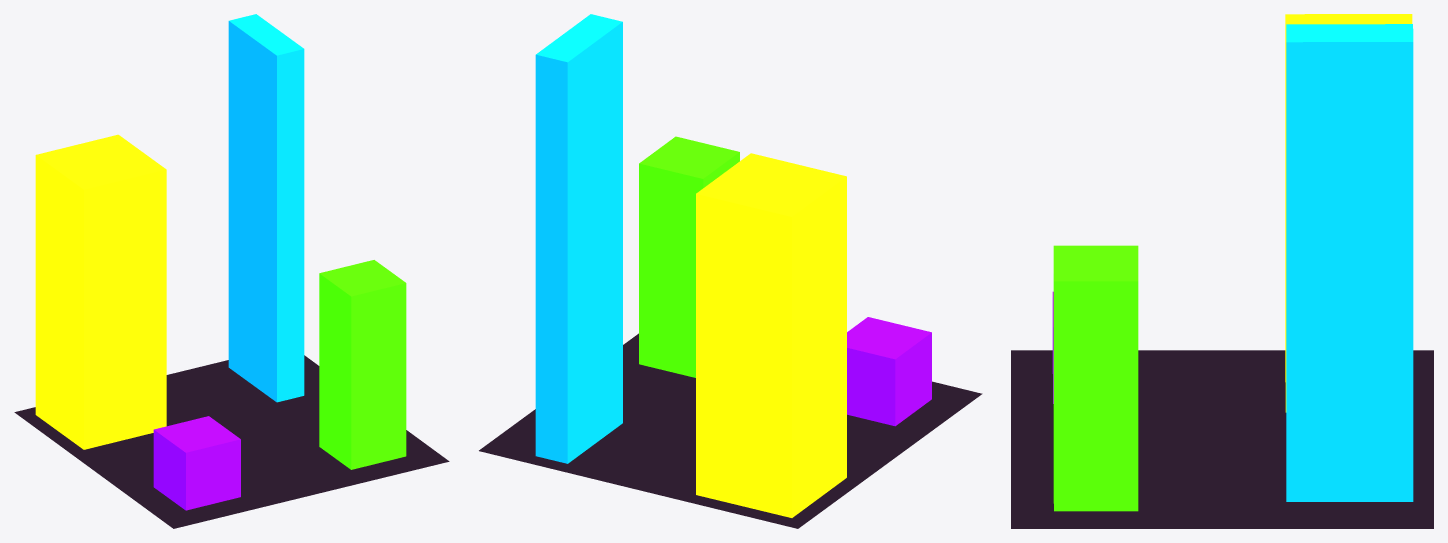
File: decoration-buildings-2.glb
3 views of the same model, side by side, from view 1: azimuth 30°, elevation 25°; view 2: azimuth 150°, elevation 25°; view 3: azimuth 270°, elevation 25° (orthographic). The views are drawn at different scales.
Parts seen in each view (by area): view 1: Building 6, Building 8, Building 2 Floor, Building 7, Building 5; view 2: Building 6, Building 8, Building 2 Floor, Building 7, Building 5; view 3: Building 8, Building 2 Floor, Building 7, Building 6.
Part boxes in pixels (bbox=[...]): Building 6: bbox=[35, 134, 166, 449]; Building 8: bbox=[228, 14, 304, 402]; Building 2 Floor: bbox=[14, 355, 449, 528]; Building 7: bbox=[319, 260, 406, 469]; Building 5: bbox=[153, 416, 240, 510]; Building 6: bbox=[696, 153, 846, 517]; Building 8: bbox=[535, 14, 622, 463]; Building 2 Floor: bbox=[479, 333, 982, 528]; Building 7: bbox=[639, 136, 739, 377]; Building 5: bbox=[847, 317, 931, 426]; Building 8: bbox=[1286, 24, 1413, 501]; Building 2 Floor: bbox=[1011, 350, 1433, 528]; Building 7: bbox=[1053, 245, 1138, 511]; Building 6: bbox=[1285, 14, 1412, 412].
Bounding box in the file's own units: 10 × 12 × 10.
